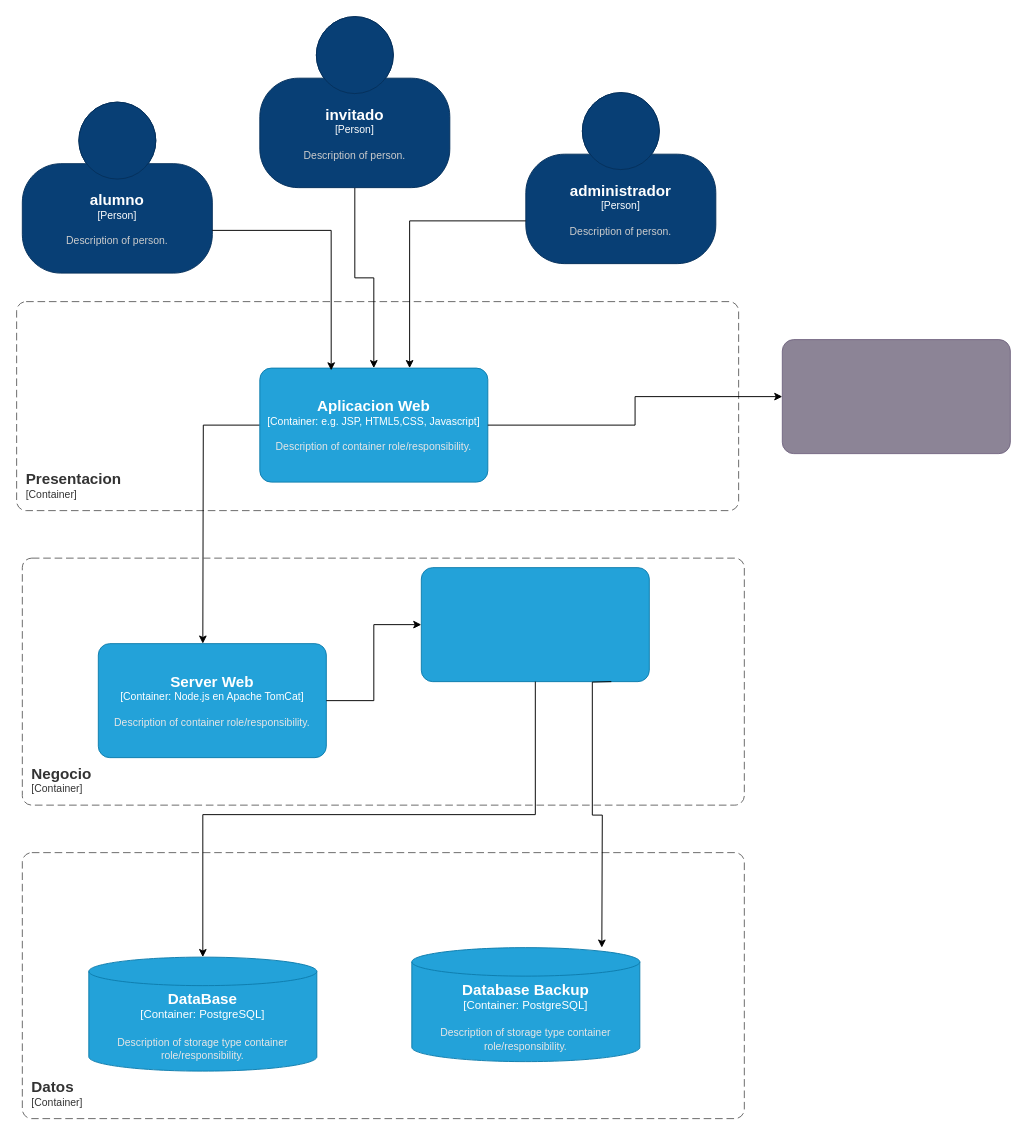
The diagram is 1027 pixels wide and 1135 high, and some of its shapes have lost their labels. Here are the shapes that lost their labels. From the top down, the centre of each, then its label:
At pixel 895 396: "Google Maps API [Software System] Description of external software system.".
At pixel 534 624: "main/src [Container: Java] Description of container role/responsibility.".
